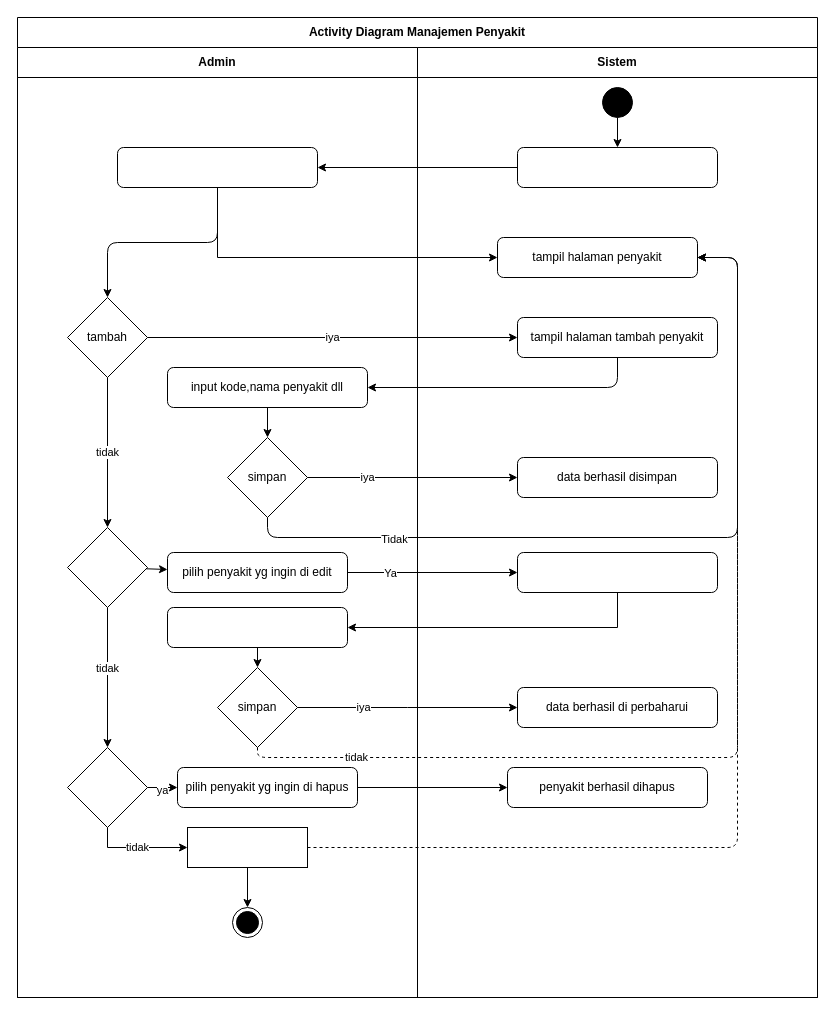
Image size: 835x1015. Some labels were removed from this diagram. The shapes that lost their labels are listed below. From the top down, each one's centre as x and y in pixels, then its label:
At [217,167]: "pilih menu penyakit".
At [617,167]: "Tampil dashboard".
At [107,567]: "edit".
At [617,572]: "tampil halamn edit penyakit".
At [257,627]: "edit data yng ingin di ubah".
At [107,787]: "hapus".
At [247,847]: "cancel".
